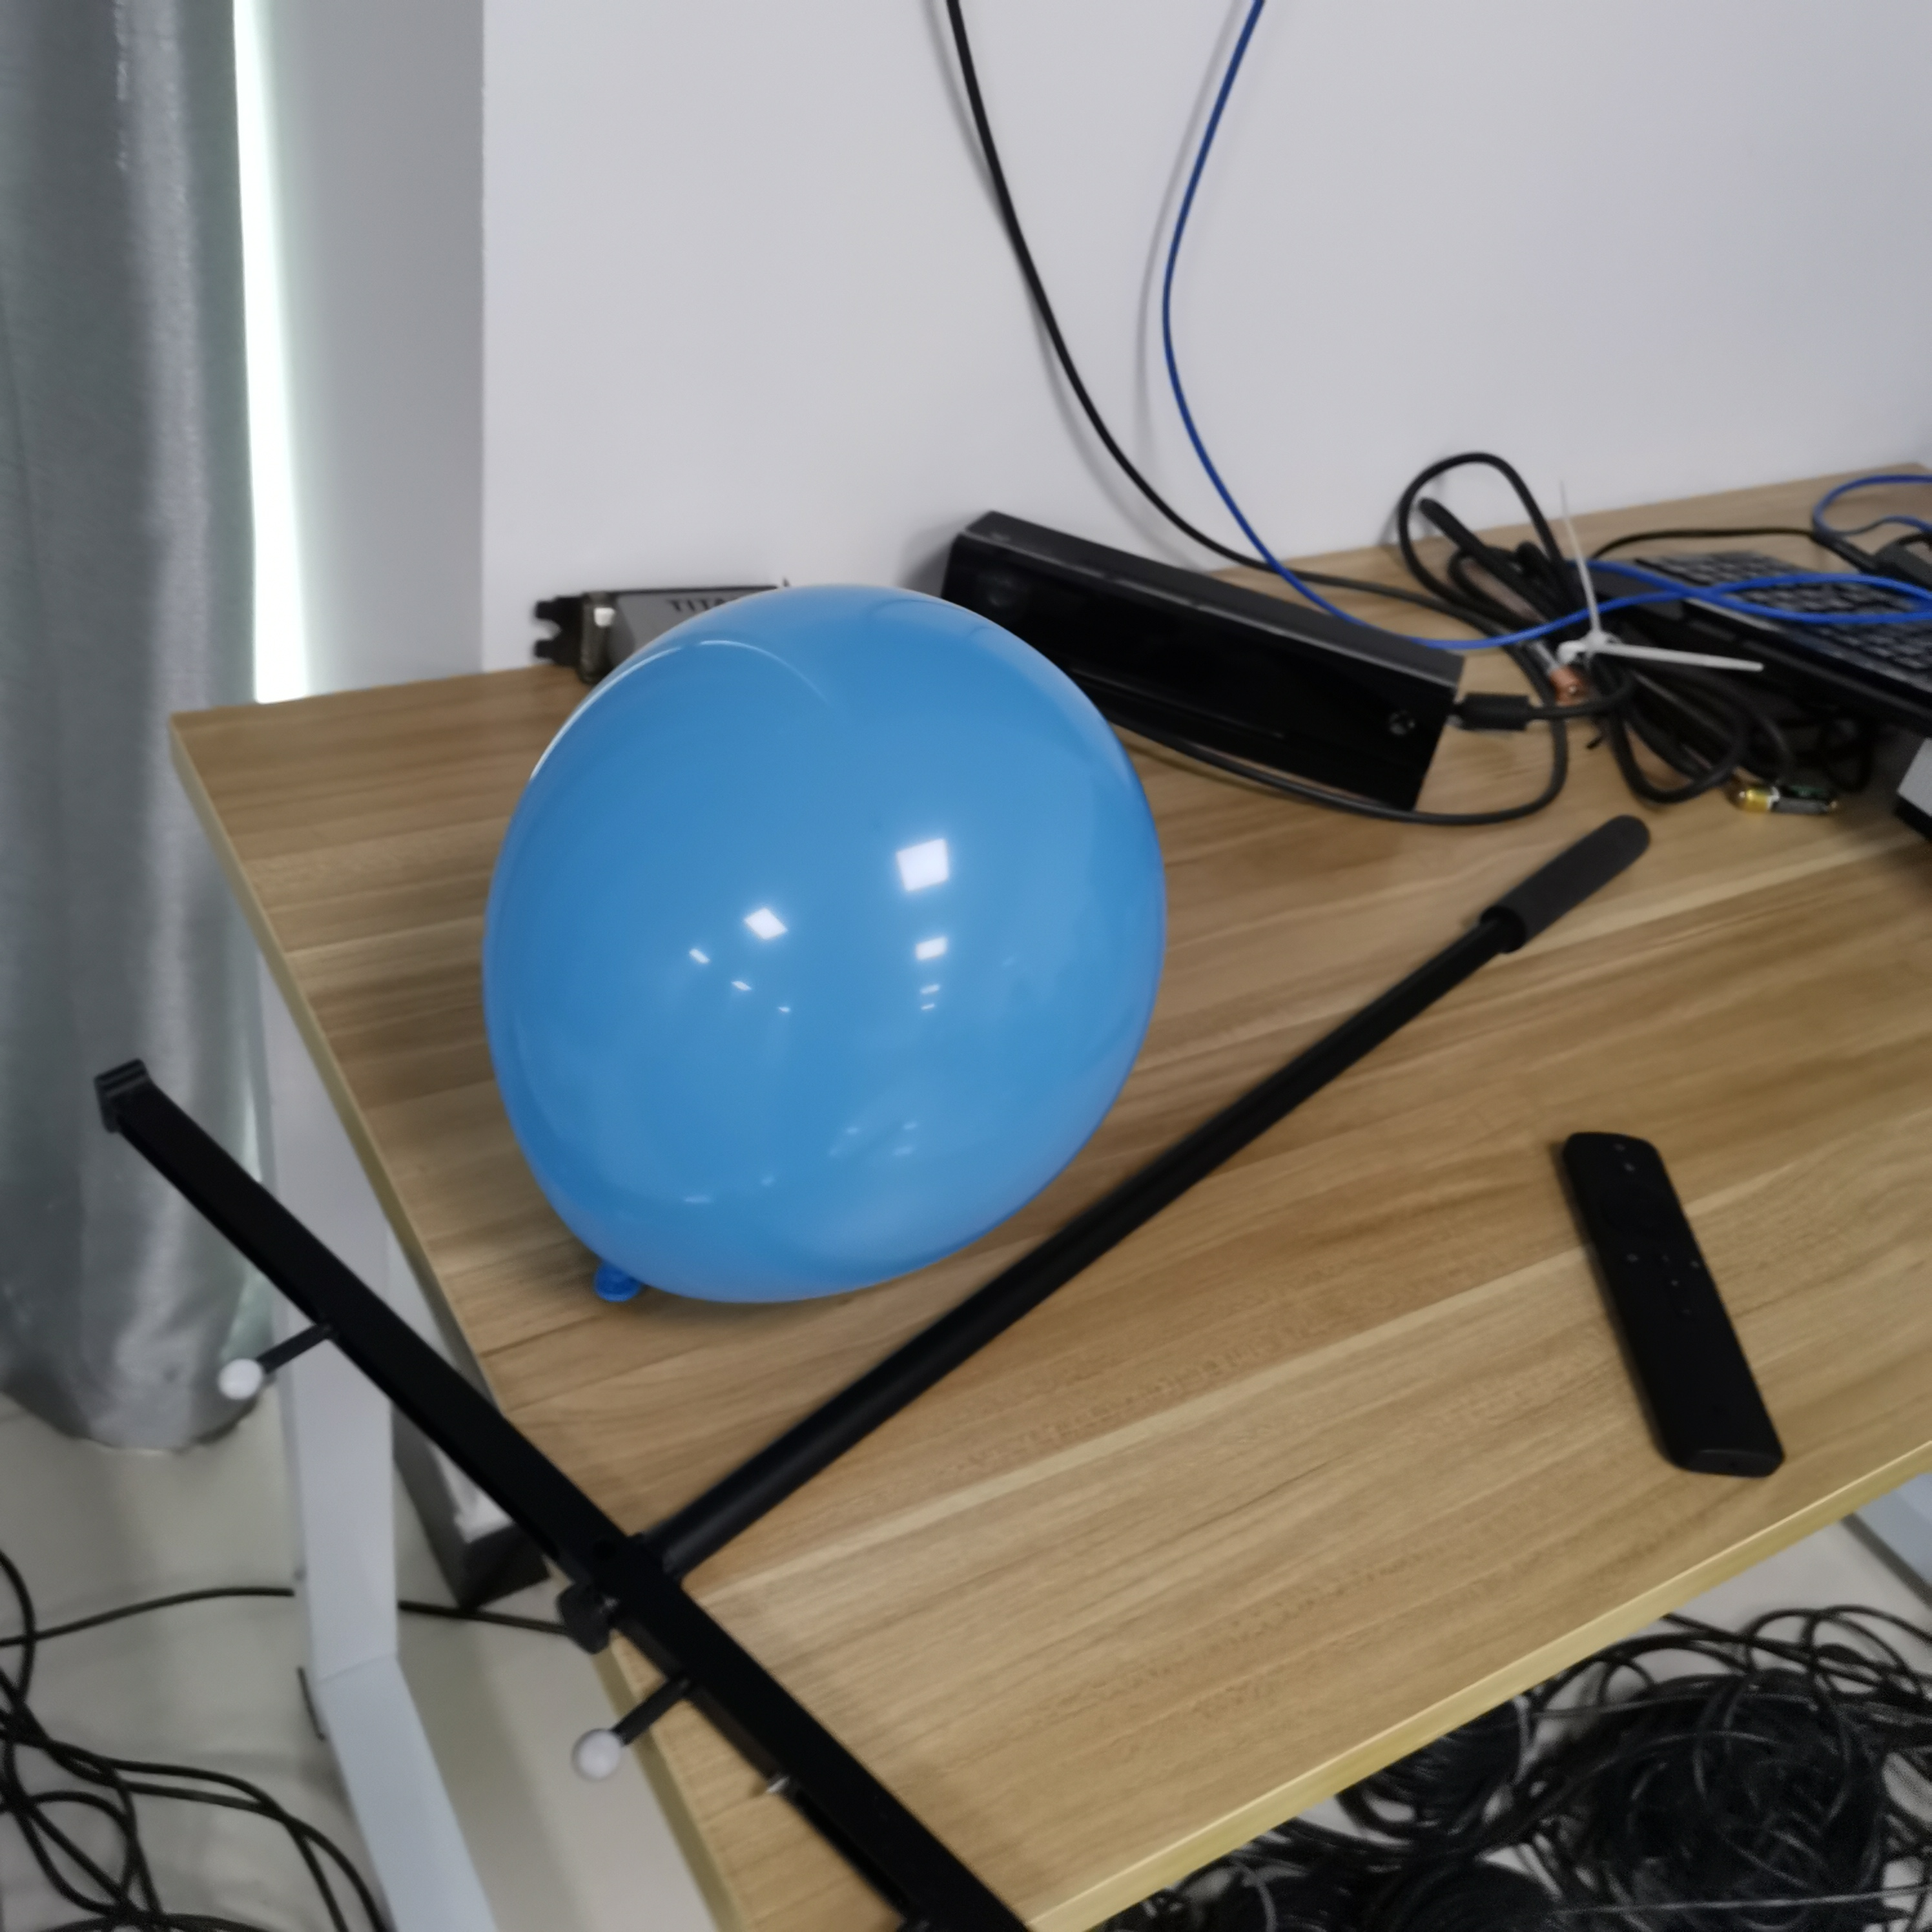balloon: (485, 587, 1169, 1322)
